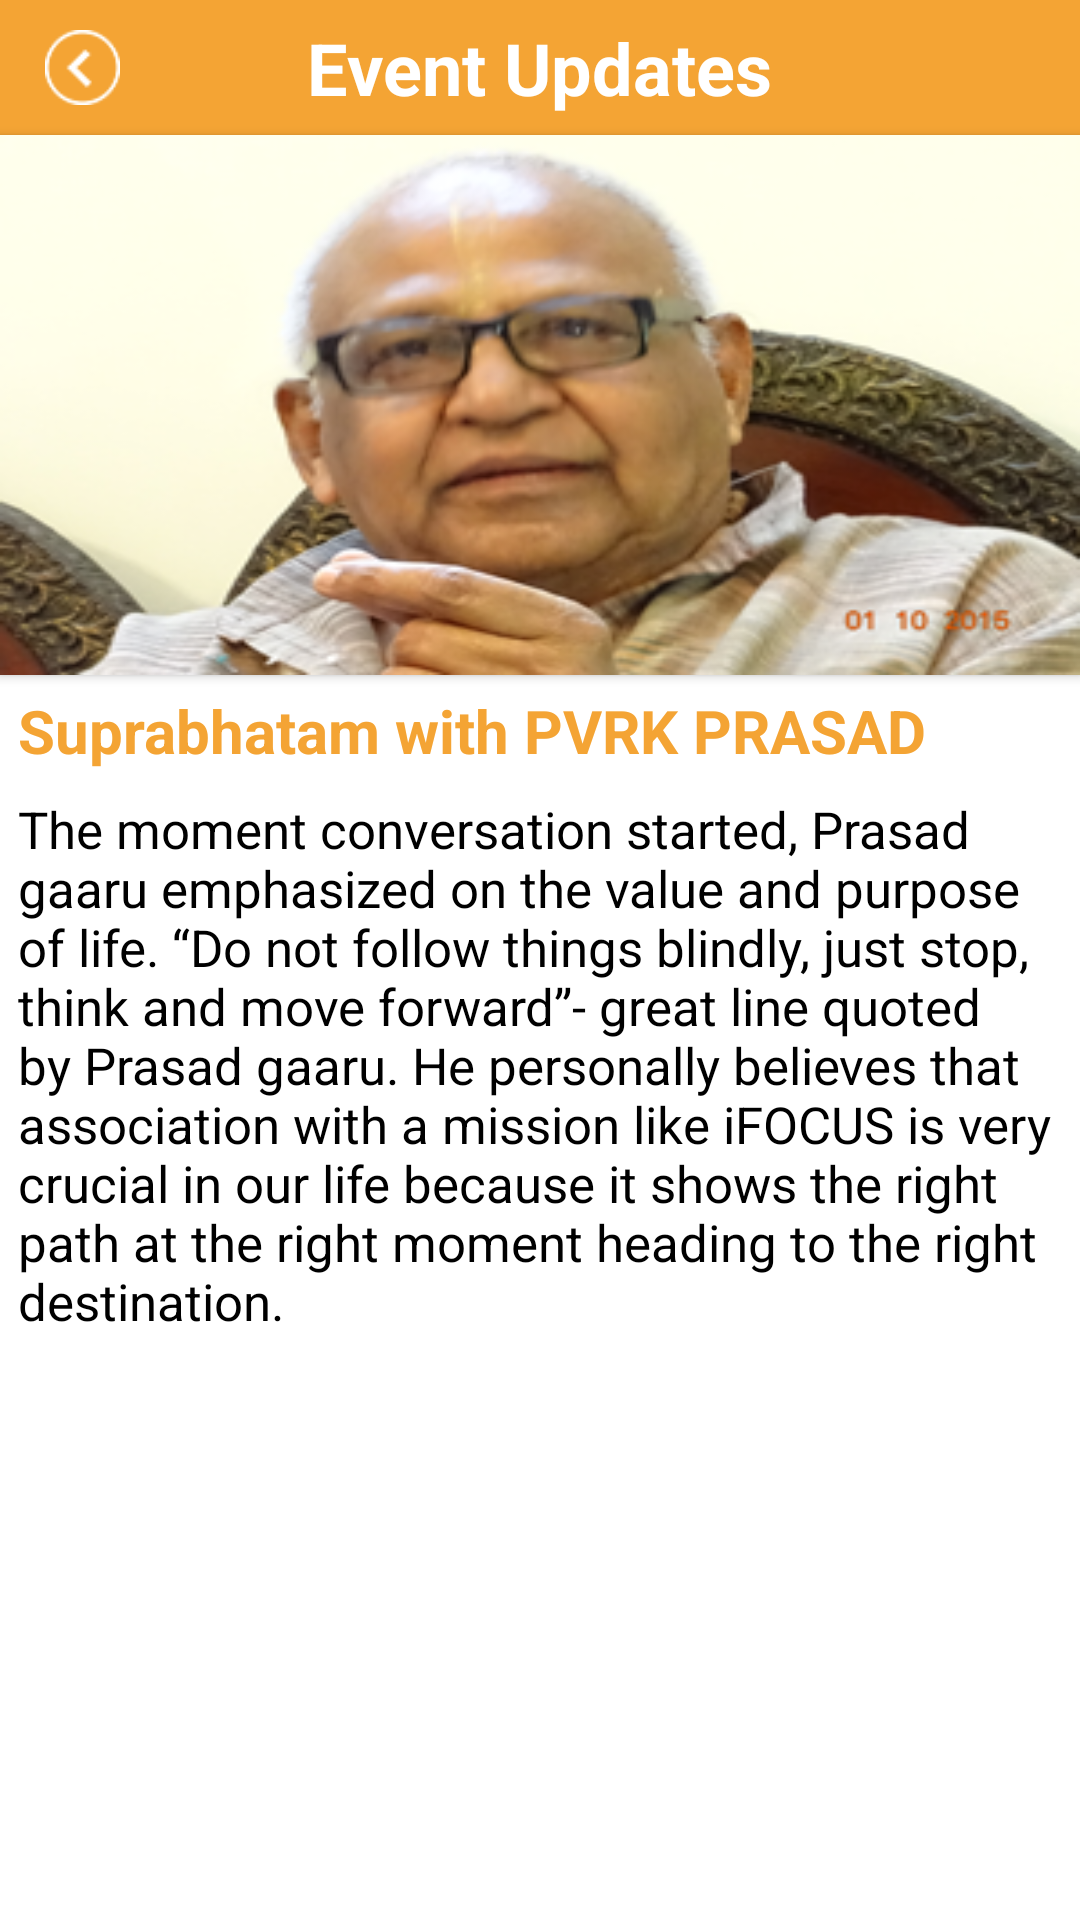

Where icons sit on this 1080px x 1920px app screen, as (x1, y1, x2, y2):
back: (45, 30, 120, 105)
